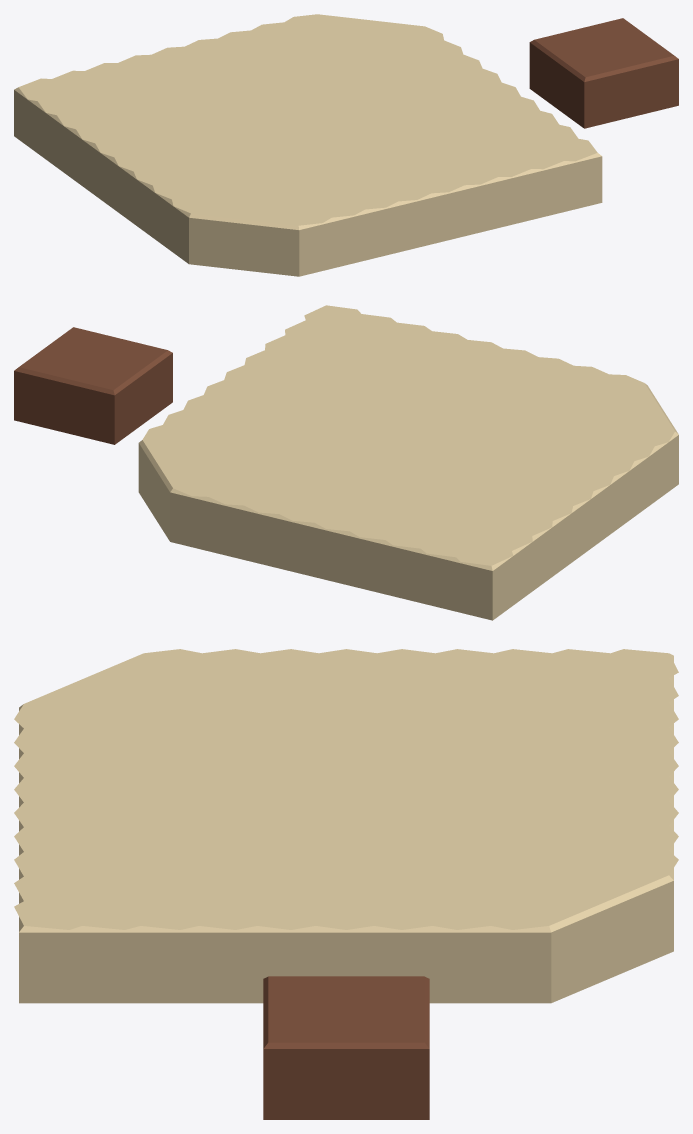
Rendered from mahsulot.glb.
3 views of the same model, one above another, from view 1: azimuth 30°, elevation 25°; view 2: azimuth 150°, elevation 25°; view 3: azimuth 270°, elevation 25° (orthographic). The views are drawn at different scales.
Visible parts, largest first — view 1: mahsulot_A, mahsulot_B; view 2: mahsulot_A, mahsulot_B; view 3: mahsulot_A, mahsulot_B.
Part boxes in pixels (x1,y1,x2,y2): mahsulot_A: [14, 14, 602, 276]; mahsulot_B: [529, 18, 678, 128]; mahsulot_A: [138, 305, 678, 620]; mahsulot_B: [14, 327, 172, 444]; mahsulot_A: [14, 649, 678, 1003]; mahsulot_B: [263, 976, 429, 1119].
Size of the model in its own units: 0.2815 by 0.025 by 0.2.
